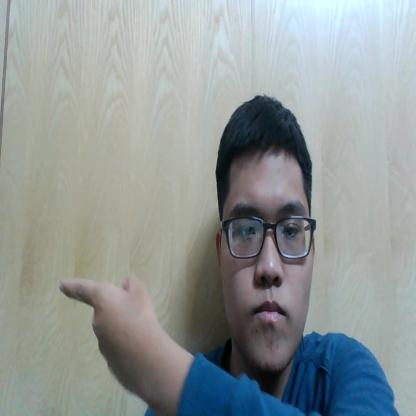right: (50, 266, 168, 407)
